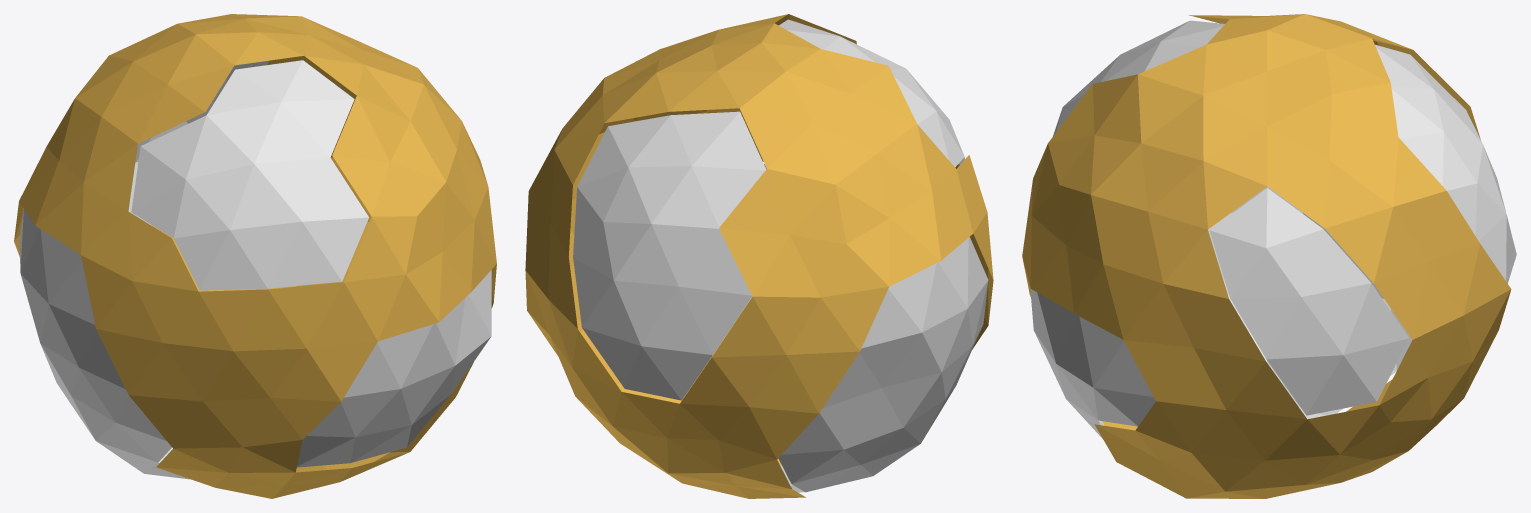
File: sun.gltf
The picture shows the model from 3 angles, left to right: view 1: azimuth 30°, elevation 25°; view 2: azimuth 150°, elevation 25°; view 3: azimuth 270°, elevation 25°; orthographic projection. The views are drawn at different scales.
Visible parts, largest first — view 1: outer, inner; view 2: outer, inner; view 3: outer, inner.
Boxes of the visible parts, bbox=[...] form: outer: bbox=[14, 14, 496, 498]; inner: bbox=[19, 60, 491, 479]; outer: bbox=[525, 14, 993, 498]; inner: bbox=[573, 19, 988, 492]; outer: bbox=[1022, 14, 1511, 498]; inner: bbox=[1030, 20, 1516, 438].
Size of the model in its own units: 2.04 by 2.04 by 2.01.
